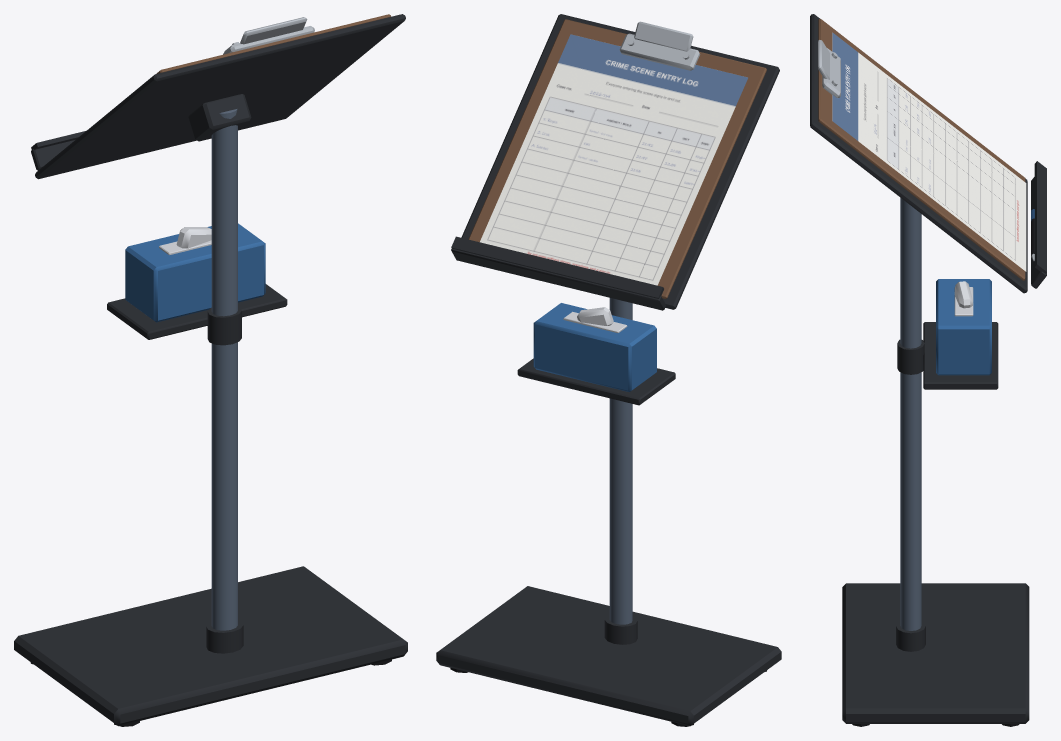
File: scene_log.glb
3 renders of one model, left to right at view 1: azimuth 30°, elevation 25°; view 2: azimuth 150°, elevation 25°; view 3: azimuth 270°, elevation 25°, orthographic. The views are drawn at different scales.
Parts seen in each view (by area): view 1: scene_log; view 2: scene_log; view 3: scene_log.
Boxes of the visible parts, bbox=[...] form: scene_log: bbox=[14, 14, 407, 726]; scene_log: bbox=[436, 14, 781, 726]; scene_log: bbox=[810, 14, 1046, 726].
Size of the model in its own units: 0.45 by 1 by 0.35.
9 materials, 1 textured.
